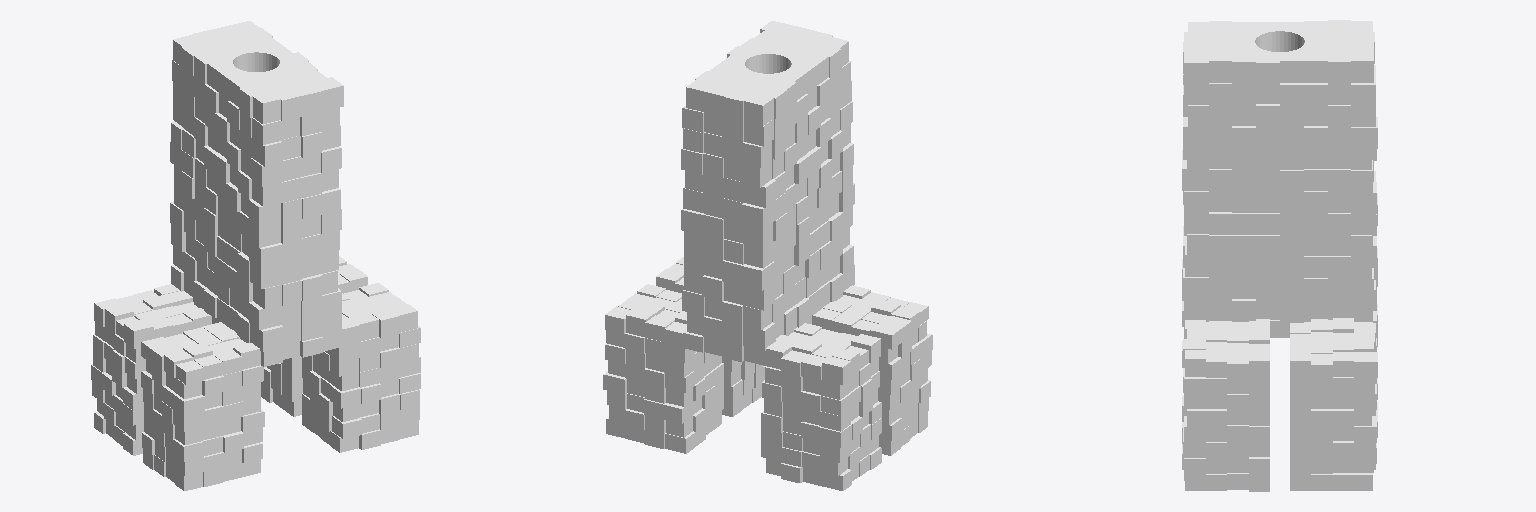
URDF robot description (TexturedCreeperBody.obj):
<robot name="TexturedCreeperBody.obj">
	<link name="_name">
		<visual>
			<origin xyz="-141.14712629661366 13.390432585089103 -51.79999926" rpy="0.0 0.0 0.0" />
			<geometry>
				<mesh filename="TexturedCreeperBody.obj" scale="1 1 1" />
			</geometry>
			<material name="texture">
				<color rgba="1.0 1.0 1.0 1.0" />
			</material>
		</visual>
		<collision>
			<origin xyz="-141.14712629661366 13.390432585089103 -51.79999926" rpy="0.0 0.0 0.0" />
			<geometry>
				<mesh filename="TexturedCreeperBody_vhacd.obj" scale="1 1 1" />
			</geometry>
		</collision>
		<inertial>
			<mass value="1.0" />
			<inertia ixx="1.0" ixy="0.0" ixz="0.0" iyy="1.0" iyz="0.0" izz="1.0" />
		</inertial>
	</link>
</robot>

--- What the picture shows (computed from the rendered views, not written in the file) ---
3 views of the same robot in one strip: view 1: azimuth 30°, elevation 25°; view 2: azimuth 150°, elevation 25°; view 3: azimuth 270°, elevation 25° (orthographic).
Robot: TexturedCreeperBody.obj — 1 links, 0 joints (none); root link _name; default pose: all joints at 0.
Links seen in each view (by area): view 1: _name; view 2: _name; view 3: _name.
Boxes of the visible links, bbox=[...] form: _name: bbox=[91, 21, 420, 490]; _name: bbox=[603, 21, 932, 490]; _name: bbox=[1182, 20, 1377, 491].
Bounding box of the posed robot: 35.26 × 23.68 × 51.8 m (x, y, z).
Meshes: 1 distinct files referenced, 1 mesh visuals loaded (1 OBJ).